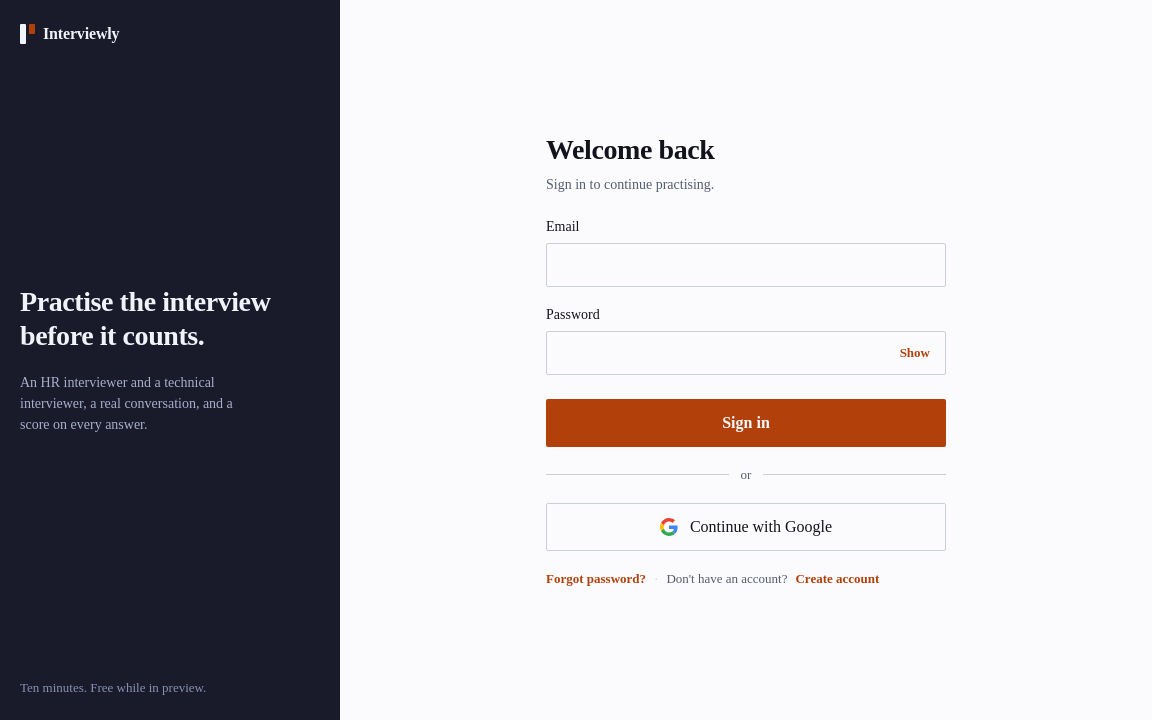
sign-in page › renders INVALID_CREDENTIALS from the error code
The width and height of the screenshot is (1152, 720).
Step 1. Type "someone@example.com" into the field labelled "Email" → (746, 264), box [546,242,946,286]
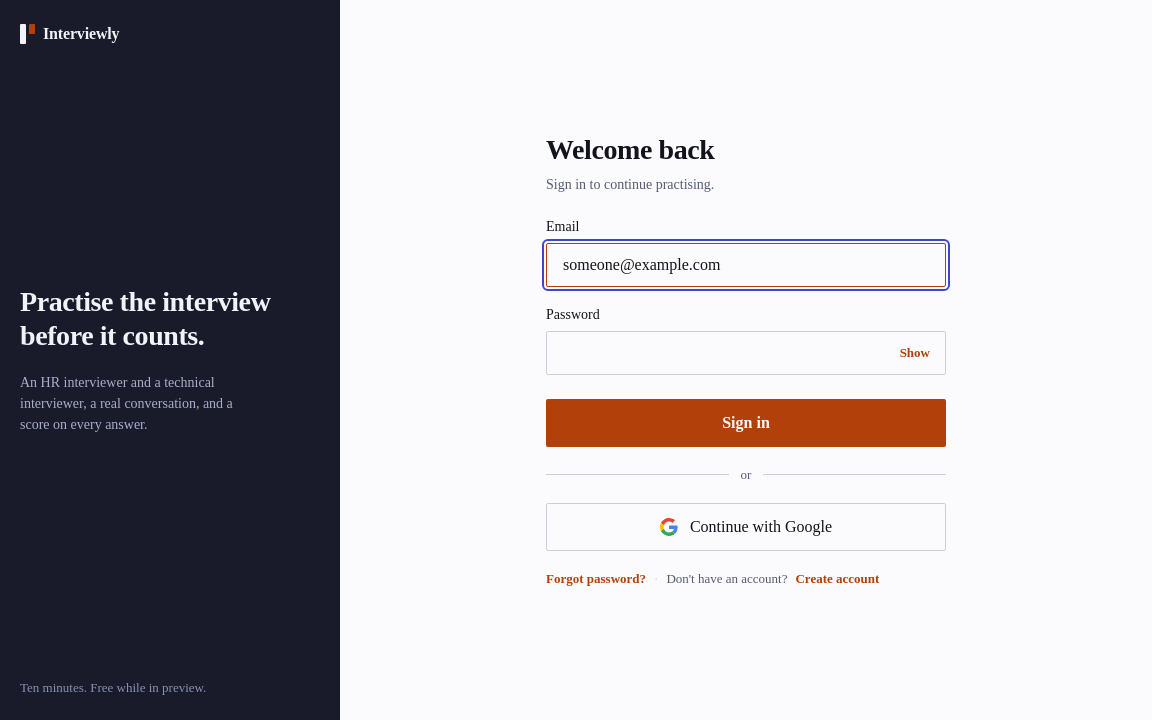
Step 2. Type "wrong-password" into the password field labelled "Password" → (746, 352), box [546,330,946,374]
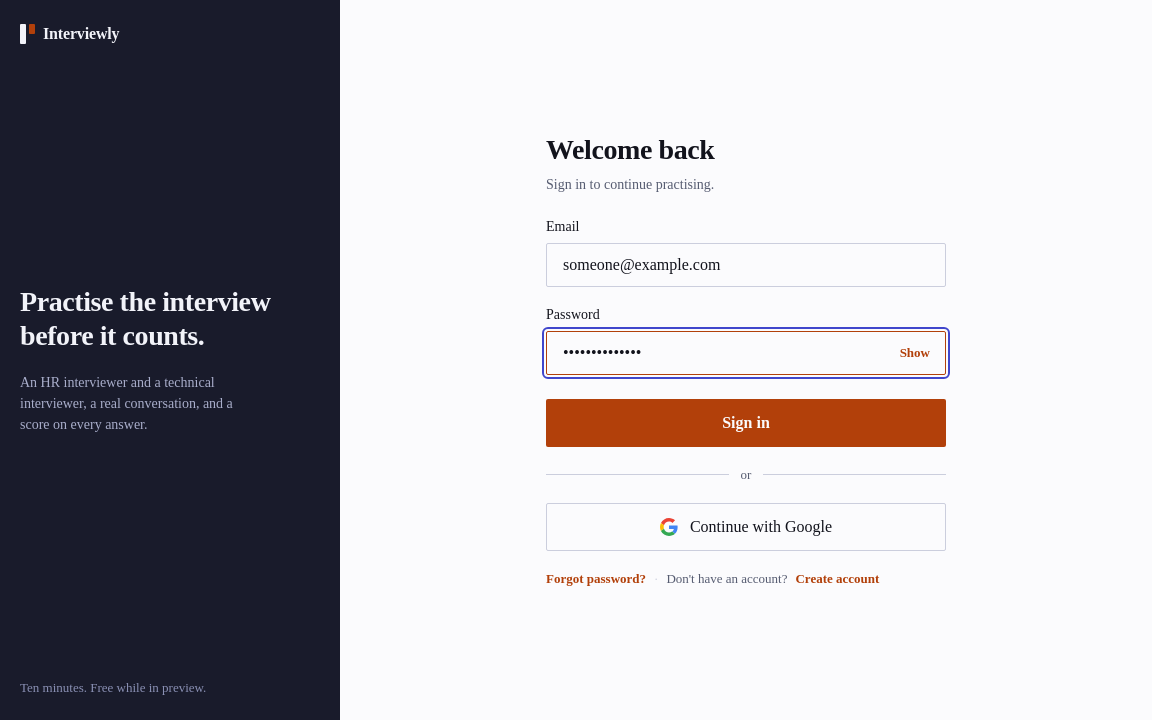
Step 3. Click the button "Sign in" → (746, 422), box [546,398,946,446]
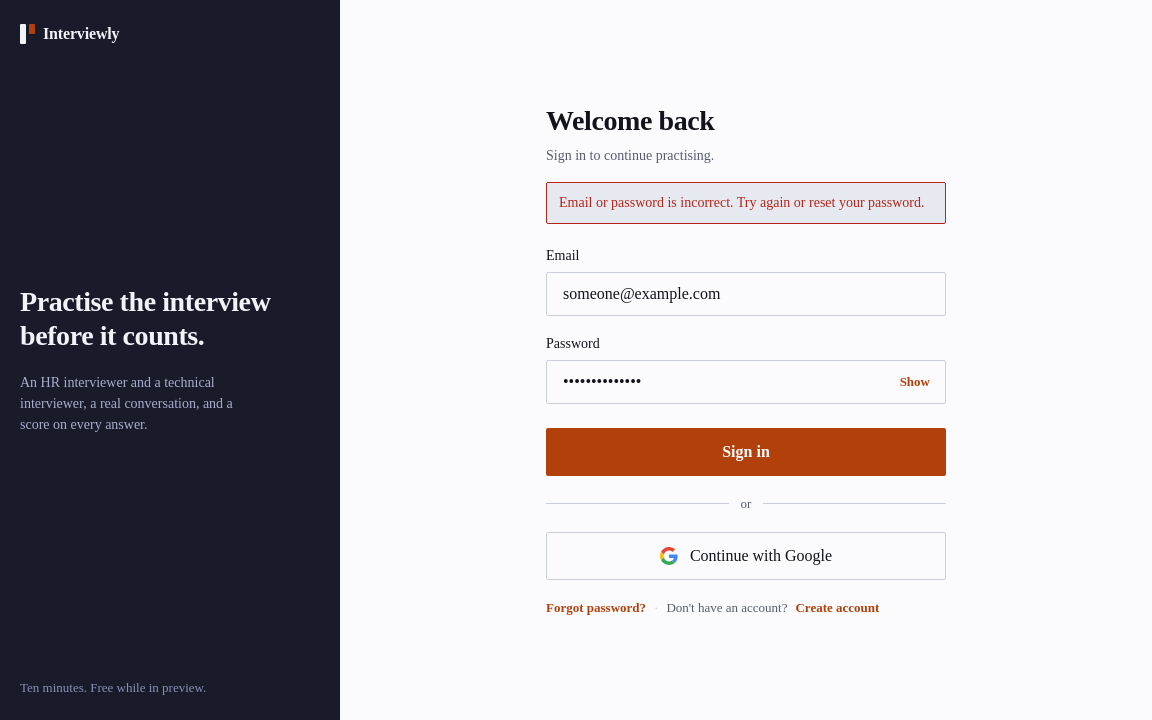
Expected: the text "Email or password is incorrect. Try again or reset your password." is shown, [546,182,946,224]
